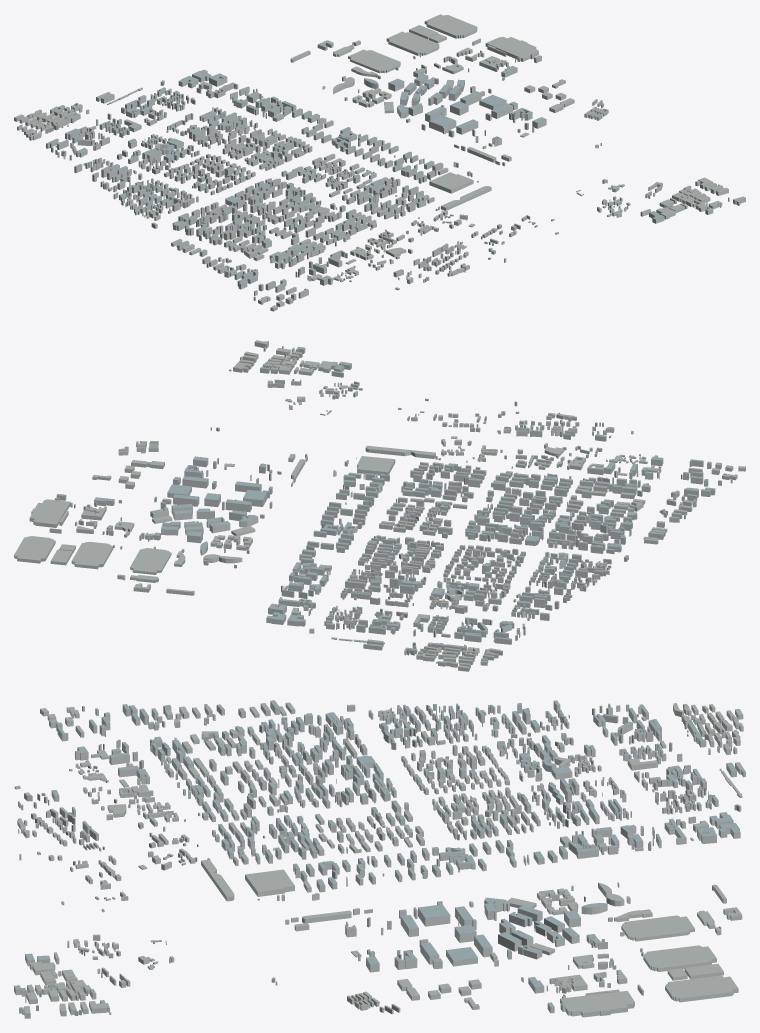
The model's file is far.glb.
3 views of the same model, one above another, from view 1: azimuth 30°, elevation 25°; view 2: azimuth 150°, elevation 25°; view 3: azimuth 270°, elevation 25° (orthographic). The views are drawn at different scales.
Size of the model in its own units: 2140 by 36.8 by 2120.
